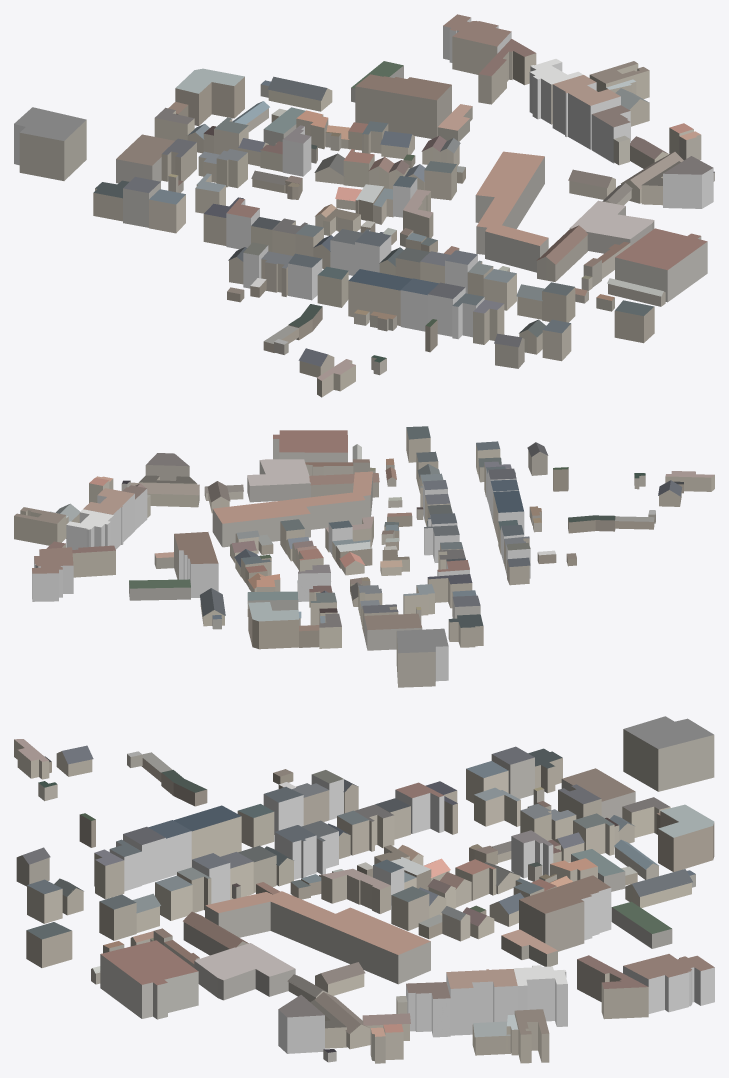
The picture shows the model from 3 angles, top to bottom: view 1: azimuth 30°, elevation 25°; view 2: azimuth 150°, elevation 25°; view 3: azimuth 270°, elevation 25°; orthographic projection. The views are drawn at different scales.
Visible parts, largest first — view 1: tuile; view 2: tuile; view 3: tuile.
Boxes of the visible parts, x1,y1,x2,y2 form: tuile: [14, 14, 714, 397]; tuile: [14, 426, 714, 687]; tuile: [14, 716, 714, 1063].
Size of the model in its own units: 264 by 31.21 by 266.
